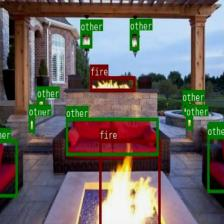fire: (99, 139, 160, 224), (90, 76, 135, 91)
